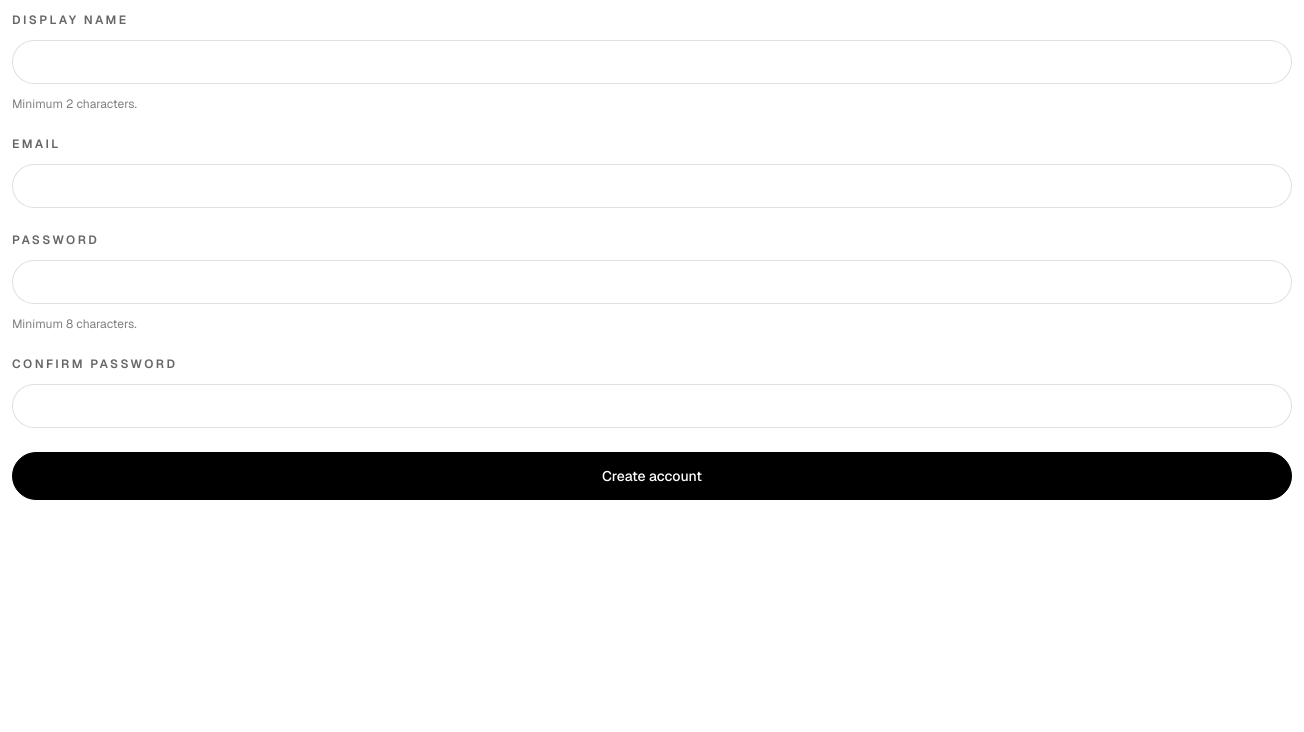
Test: SignUpForm › shows an error when passwords do not match
Step 1. Type "Test User" into the field labelled "Display name" → (652, 62), box [12,40,1292,84]
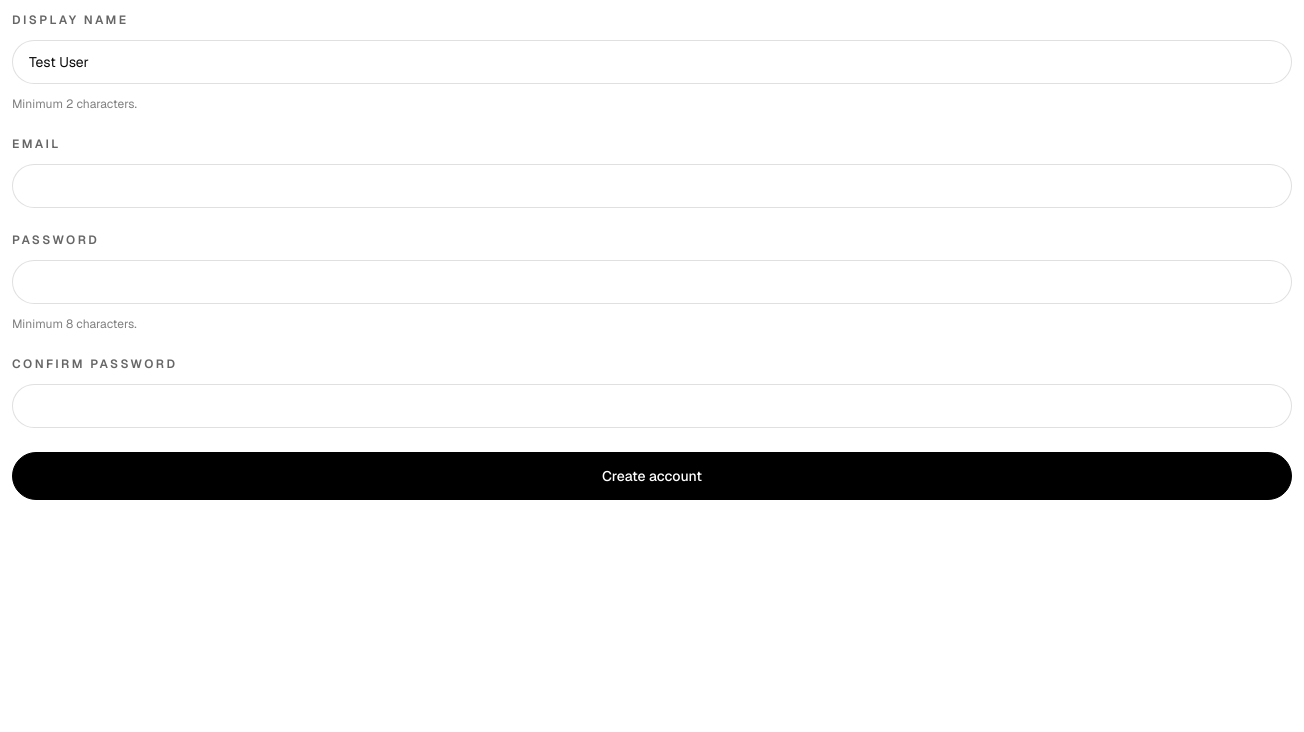
Step 2. Type "user@example.com" into the field labelled "Email" → (652, 186), box [12,164,1292,208]
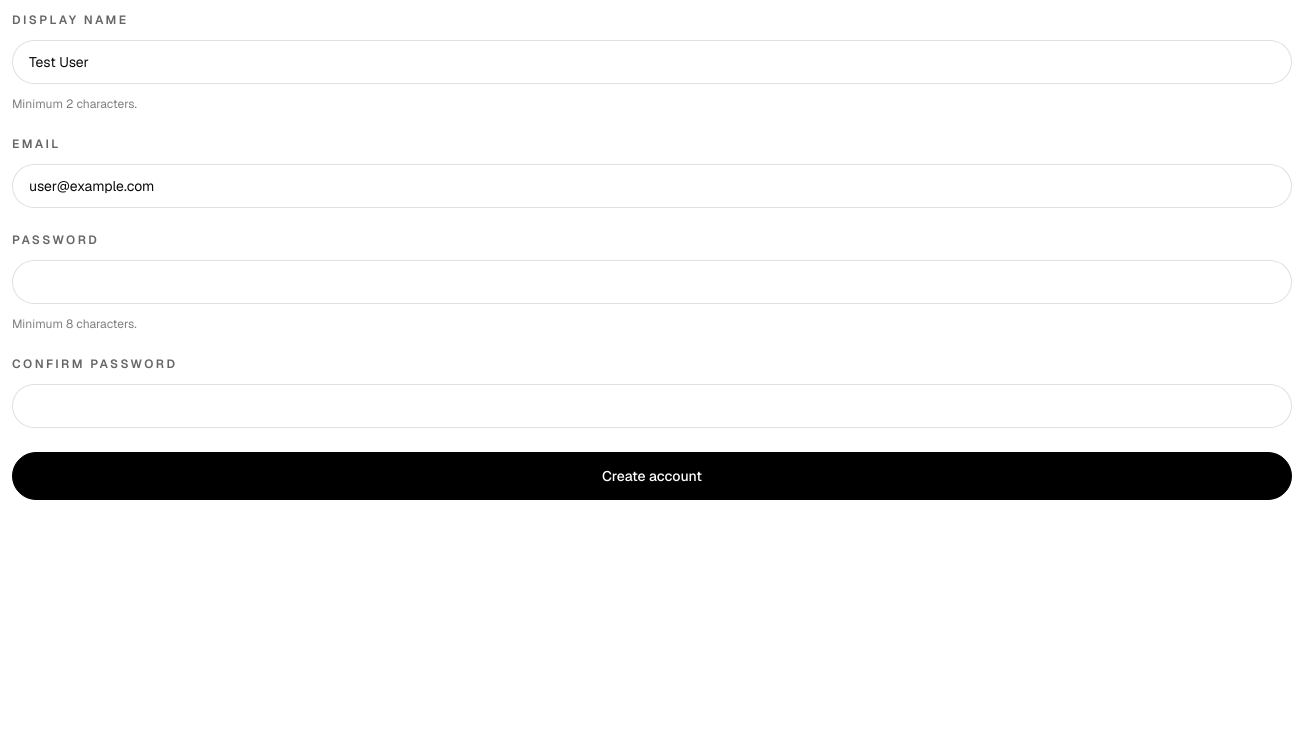
Step 3. Type "password123" into the password field labelled "Password" → (652, 282), box [12,260,1292,304]
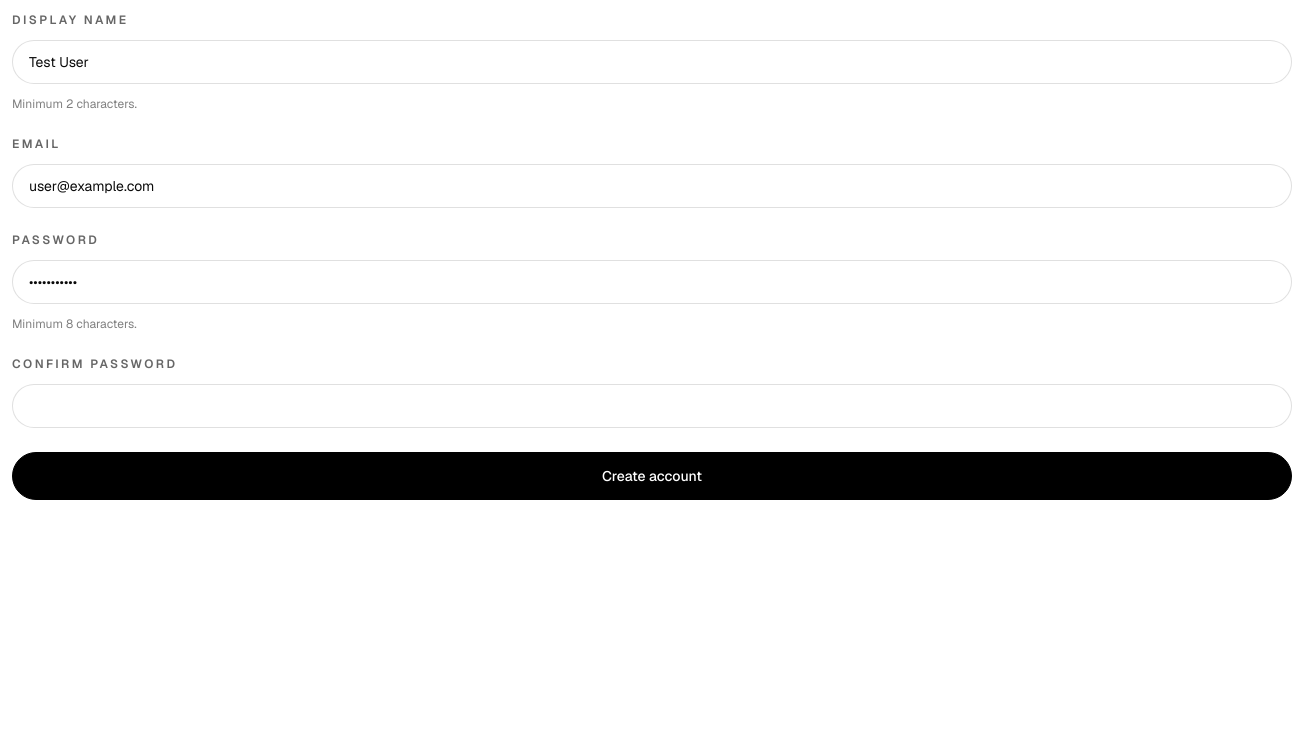
Step 4. Type "password321" into the password field labelled "Confirm password" → (652, 406), box [12,384,1292,428]
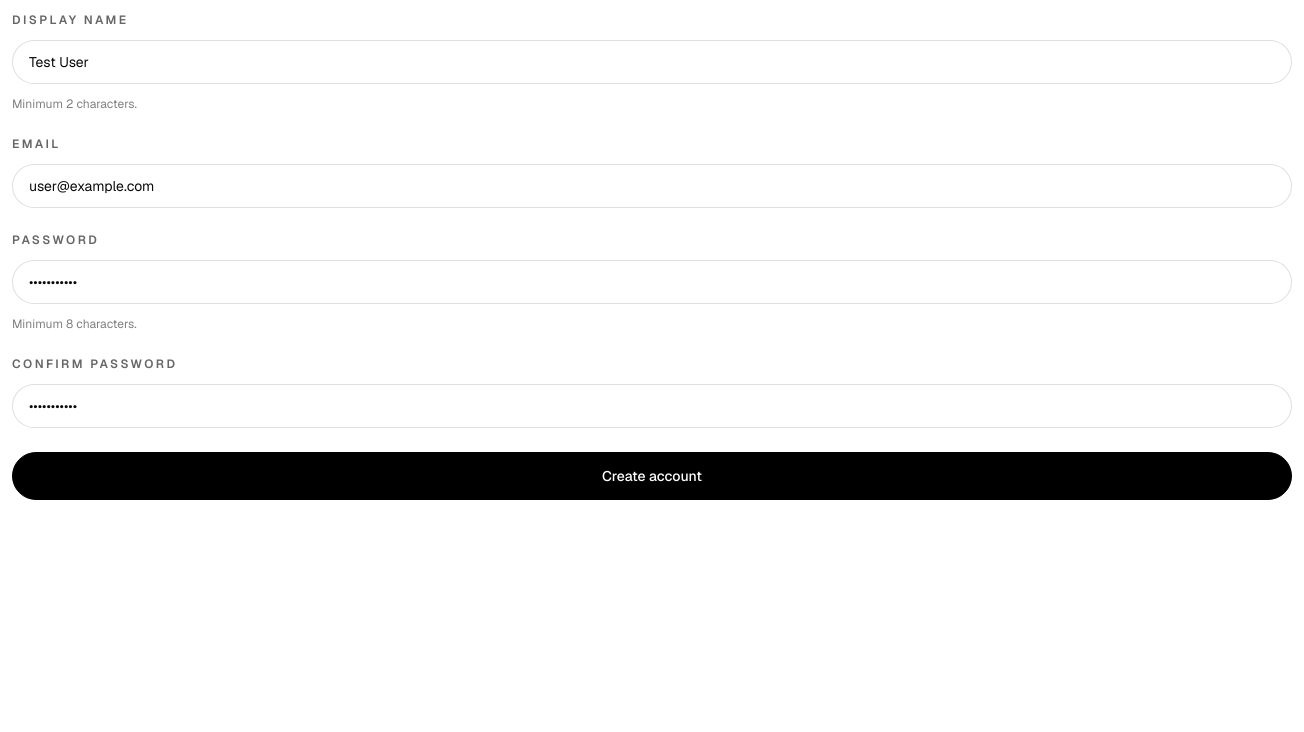
Step 5. Submit the form from the button "Create account", box [12,452,1292,500]
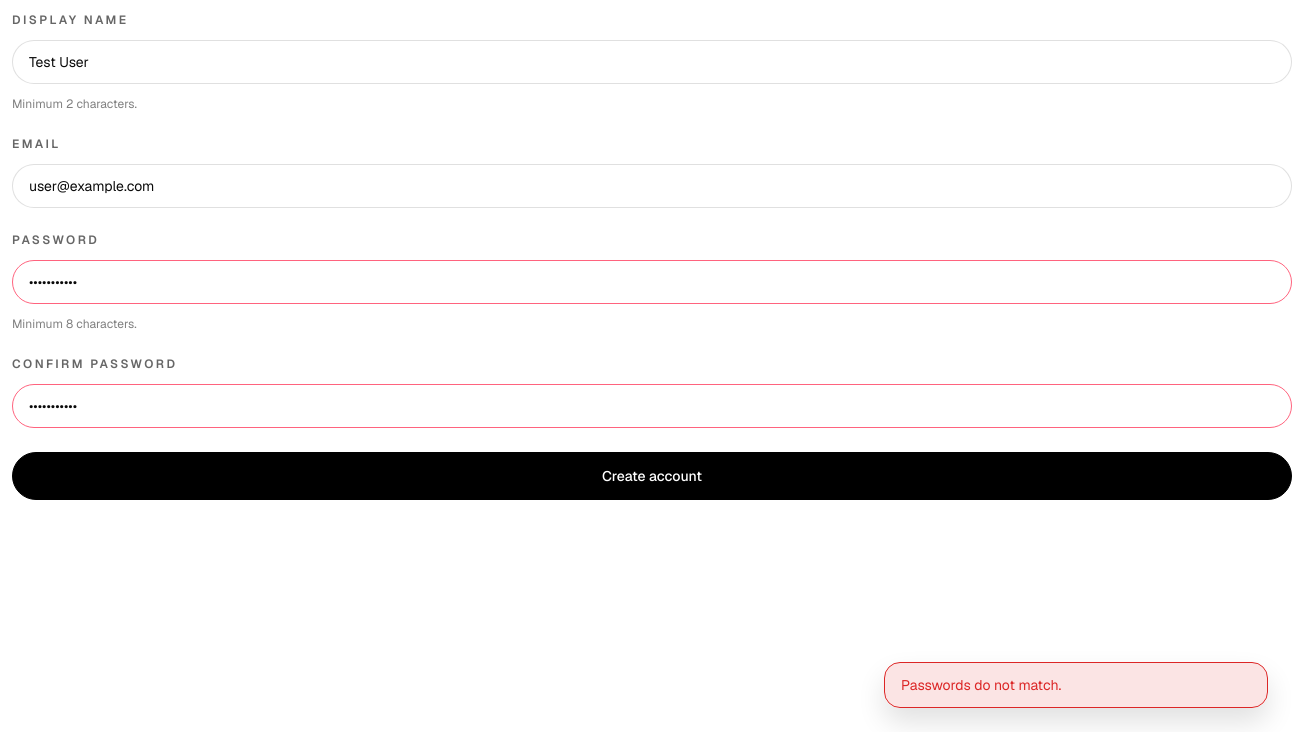
Now the text "Passwords do not match." is shown, box [884,662,1268,708]
